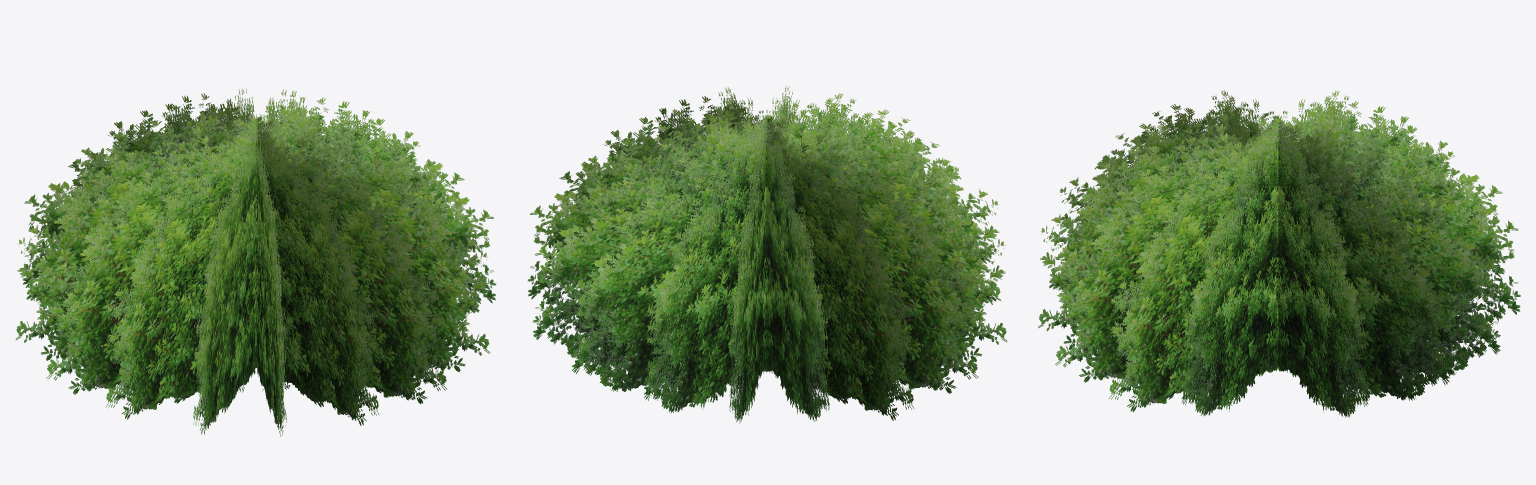
The model's file is bush2.fbx.
3 renders of one model, left to right at view 1: azimuth 30°, elevation 25°; view 2: azimuth 150°, elevation 25°; view 3: azimuth 270°, elevation 25°, orthographic.
Parts seen in each view (by area): view 1: bush2.002; view 2: bush2.002; view 3: bush2.002.
Part boxes in pixels (x1,y1,x2,y2): bush2.002: (15, 89, 496, 436); bush2.002: (527, 85, 1007, 423); bush2.002: (1038, 90, 1520, 417).
Bounding box in the file's own units: 16.57 × 9.51 × 16.57.
1 material, 1 textured.
